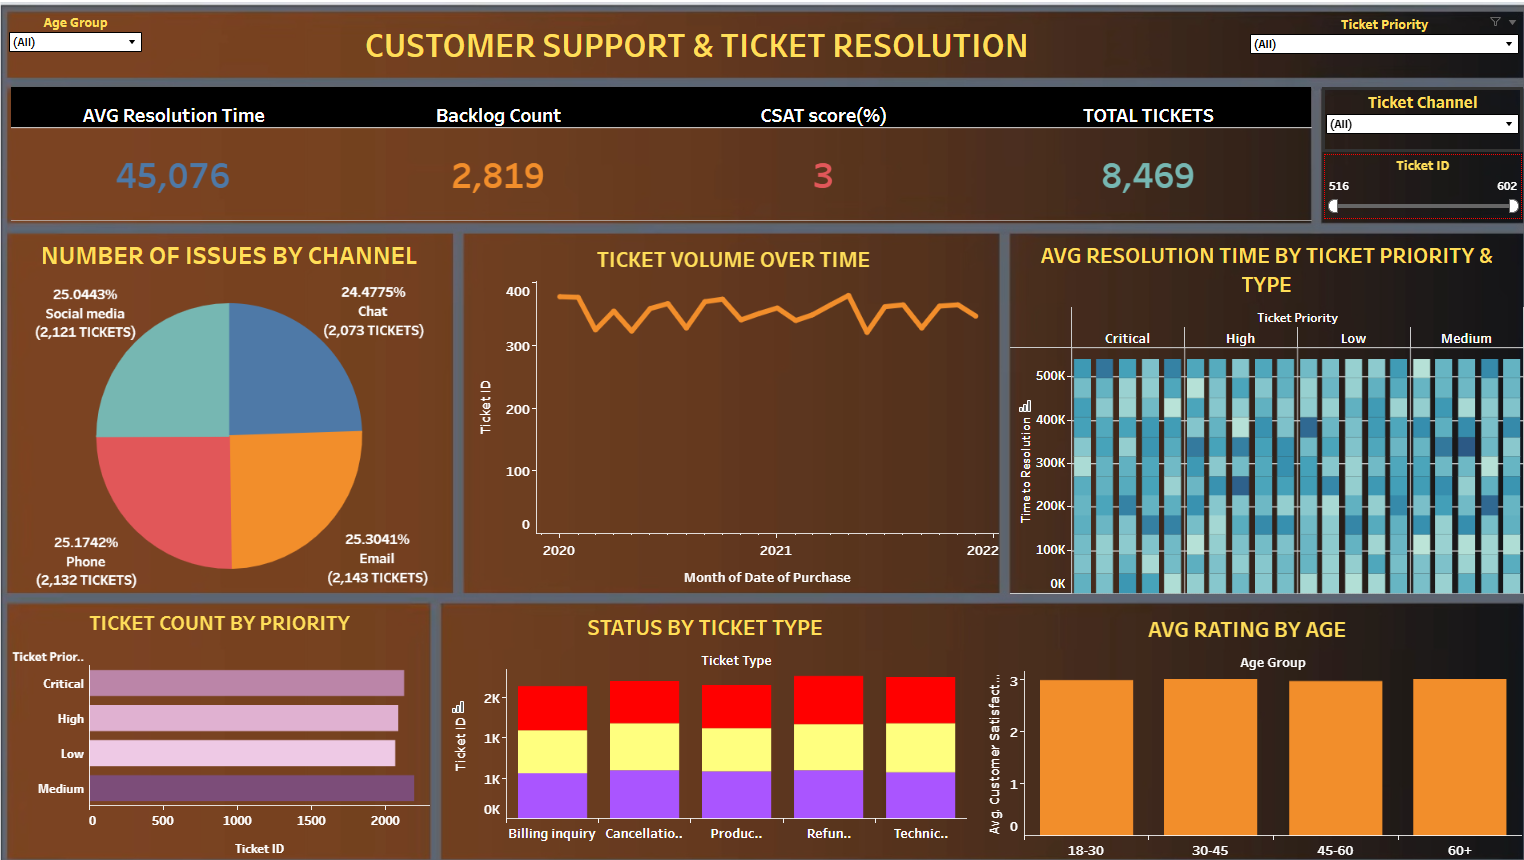

This screenshot's page, from the dashboard's own definition file:
{"tool":"tableau","page":{"name":"Dashboard 1","canvas":[1590,890],"ordinal":0},"visuals":[{"type":"image","param":"Image/Screenshot 2025-05-24 122321.png","box":[8,8,1574,874]},{"type":"title","box":[211,19,1031,70]},{"type":"filter","title":"AVG RESOLUTION TIME BY TICKET PRIORITY & TYPE","param":"[federated.1bory1h02jz6f110qlegw05v3641].[none:Calculation_682576831234641920:nk","box":[38,22,135,65]},{"type":"filter","title":"TICKET COUNT BY PRIORITY","param":"[federated.1bory1h02jz6f110qlegw05v3641].[none:Ticket Priority:nk]","box":[1279,24,271,60]},{"type":"worksheet","title":"KPI","mark":"Text","box":[41,97,1301,134]},{"type":"filter","title":"NUMBER OF ISSUES BY CHANNEL","param":"[federated.1bory1h02jz6f110qlegw05v3641].[none:Ticket Channel:nk]","box":[1352,97,201,65]},{"type":"filter","title":"STATUS BY TICKET TYPE","param":"[federated.1bory1h02jz6f110qlegw05v3641].[ctd:Ticket ID:qk]","box":[1354,164,198,65]},{"type":"worksheet","title":"NUMBER OF ISSUES BY CHANNEL","mark":"Pie","box":[40,241,438,361]},{"type":"worksheet","title":"AVG RESOLUTION TIME BY TICKET PRIORITY & TYPE","mark":"Automatic","rows":["Time to Resolution"],"cols":["Ticket Priority","Ticket Type"],"box":[1040,244,514,360]},{"type":"worksheet","title":"TICKET VOLUME OVER TIME","mark":"Automatic","rows":["Ticket ID"],"cols":["Date of Purchase"],"box":[498,247,531,355]},{"type":"worksheet","title":"TICKET COUNT BY PRIORITY","mark":"Automatic","rows":["Ticket Priority"],"cols":["Ticket ID"],"box":[39,612,421,260]},{"type":"worksheet","title":"STATUS BY TICKET TYPE","mark":"Automatic","rows":["Ticket ID"],"cols":["Ticket Type"],"box":[473,615,524,253]},{"type":"worksheet","title":"AVG RATING BY AGE ","mark":"Automatic","rows":["Customer Satisfaction Rating"],"cols":["Calculation_682576831234641920"],"box":[1007,617,545,251]}]}

Visuals, with their boxes in screenshot pixels (x1, y1, x2, y2), scaled from the page's 1590x890 canvas onto the 1524x860 screenshot:
image: [8, 8, 1516, 852]
title: [202, 18, 1190, 86]
"AVG RESOLUTION TIME BY TICKET PRIORITY & TYPE" filter: [36, 21, 166, 84]
"TICKET COUNT BY PRIORITY" filter: [1226, 23, 1486, 81]
"KPI" worksheet (Text marks): [39, 94, 1286, 223]
"NUMBER OF ISSUES BY CHANNEL" filter: [1296, 94, 1489, 157]
"STATUS BY TICKET TYPE" filter: [1298, 158, 1488, 221]
"NUMBER OF ISSUES BY CHANNEL" worksheet (Pie marks): [38, 233, 458, 582]
"AVG RESOLUTION TIME BY TICKET PRIORITY & TYPE" worksheet: [997, 236, 1489, 584]
"TICKET VOLUME OVER TIME" worksheet: [477, 239, 986, 582]
"TICKET COUNT BY PRIORITY" worksheet: [37, 591, 441, 843]
"STATUS BY TICKET TYPE" worksheet: [453, 594, 956, 839]
"AVG RATING BY AGE " worksheet: [965, 596, 1488, 839]
